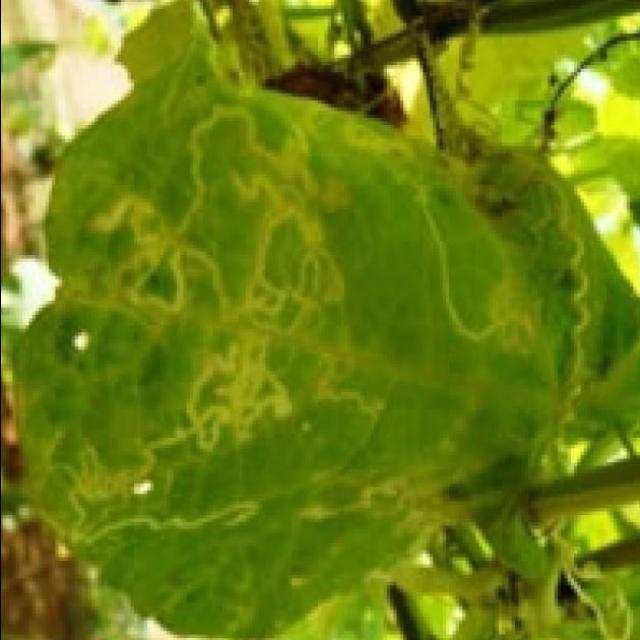Serpentine leafminer: (152, 148, 322, 472), (378, 190, 558, 362), (21, 465, 258, 581), (78, 152, 146, 300), (303, 468, 427, 546)
